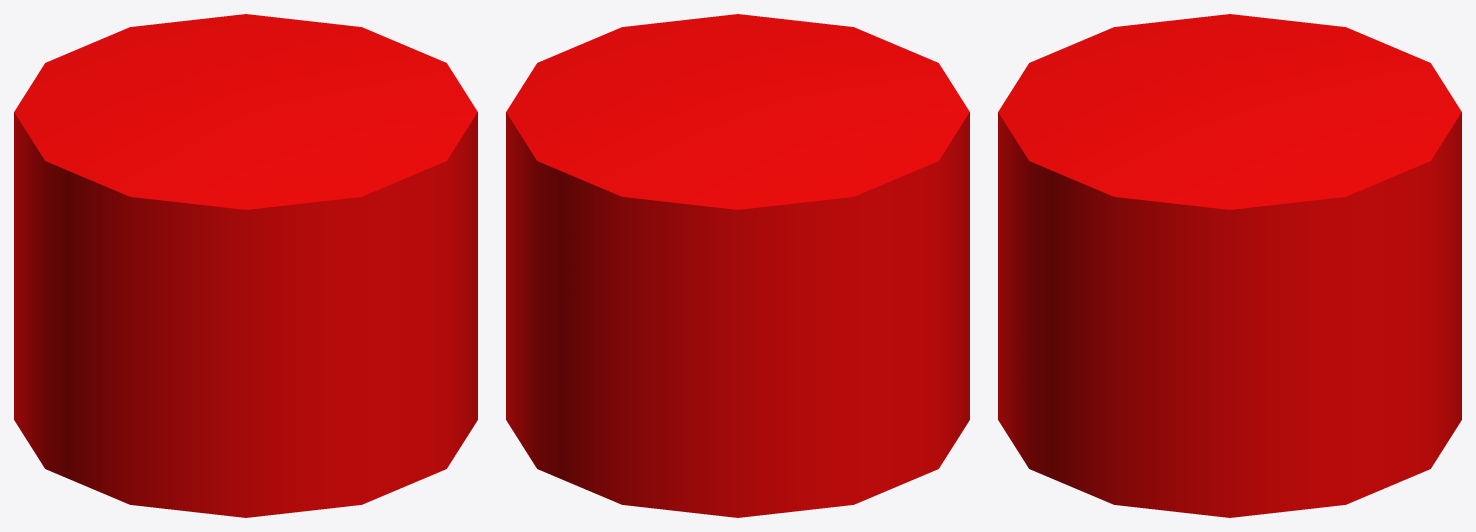
Rendered from SM_Spraycan_top_03a.FBX.
The picture shows the model from 3 angles, left to right: view 1: azimuth 30°, elevation 25°; view 2: azimuth 150°, elevation 25°; view 3: azimuth 270°, elevation 25°; orthographic projection.
Visible parts, largest first — view 1: SM_Spraycan_top_03a_LOD0; view 2: SM_Spraycan_top_03a_LOD0; view 3: SM_Spraycan_top_03a_LOD0.
Boxes of the visible parts, x1,y1,x2,y2 form: SM_Spraycan_top_03a_LOD0: [14, 14, 477, 517]; SM_Spraycan_top_03a_LOD0: [506, 14, 969, 517]; SM_Spraycan_top_03a_LOD0: [998, 14, 1461, 517].
Size of what is drawn, in the model's own units: 6.38 by 4.95 by 6.38.
